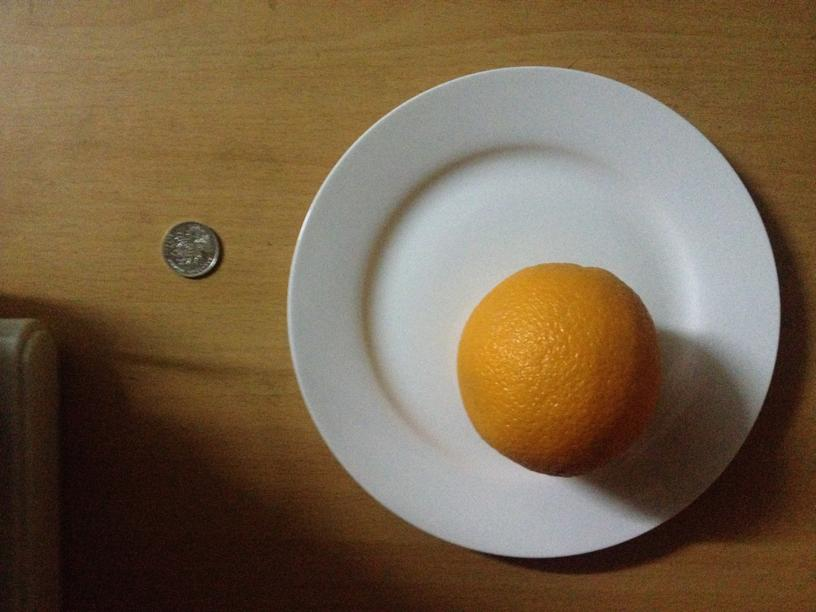coin: (160, 223, 222, 276)
orange: (457, 261, 660, 478)
